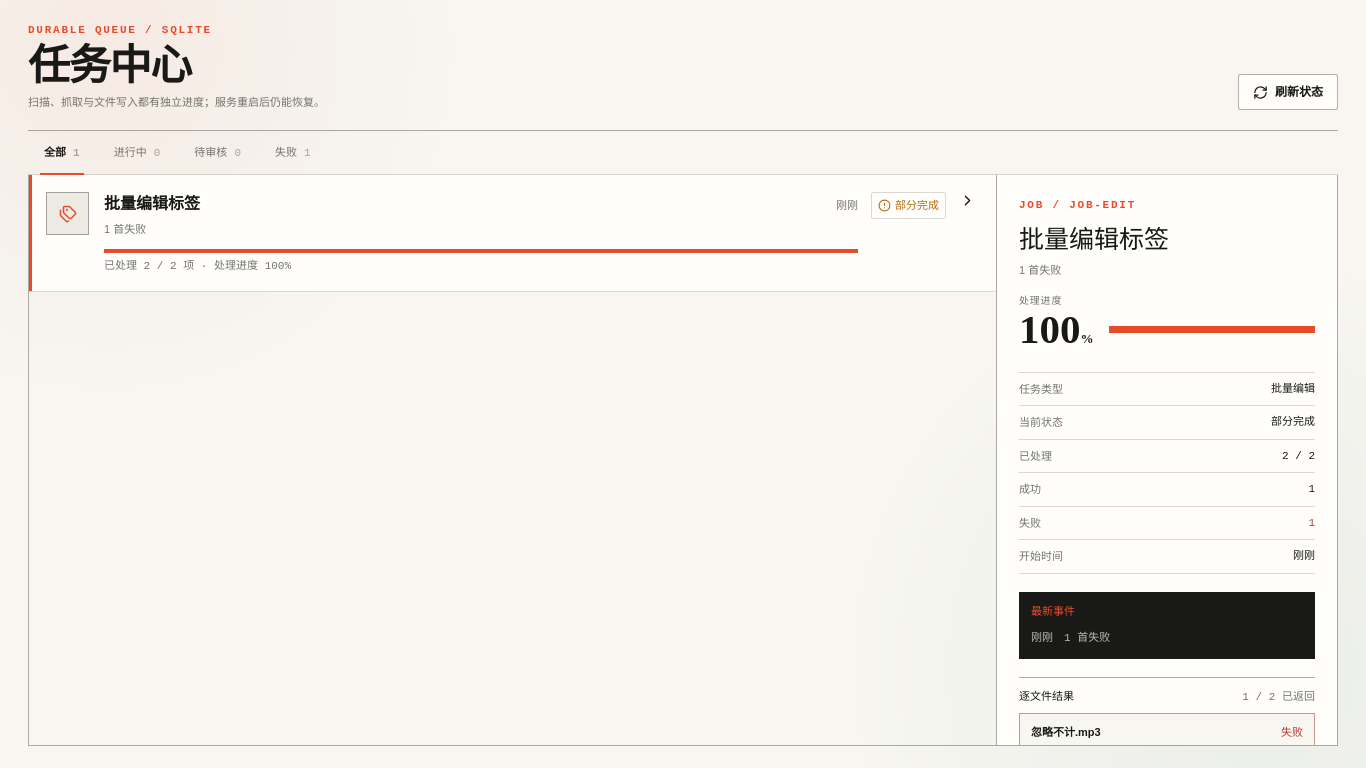
JobsPage › filters the task list when a status tab is selected
The width and height of the screenshot is (1366, 768).
Expected: the heading "批量编辑标签" is shown, [1019,226,1169,252]
Click the button "进行中 0".
click(137, 152)  # box [98,131,176,174]
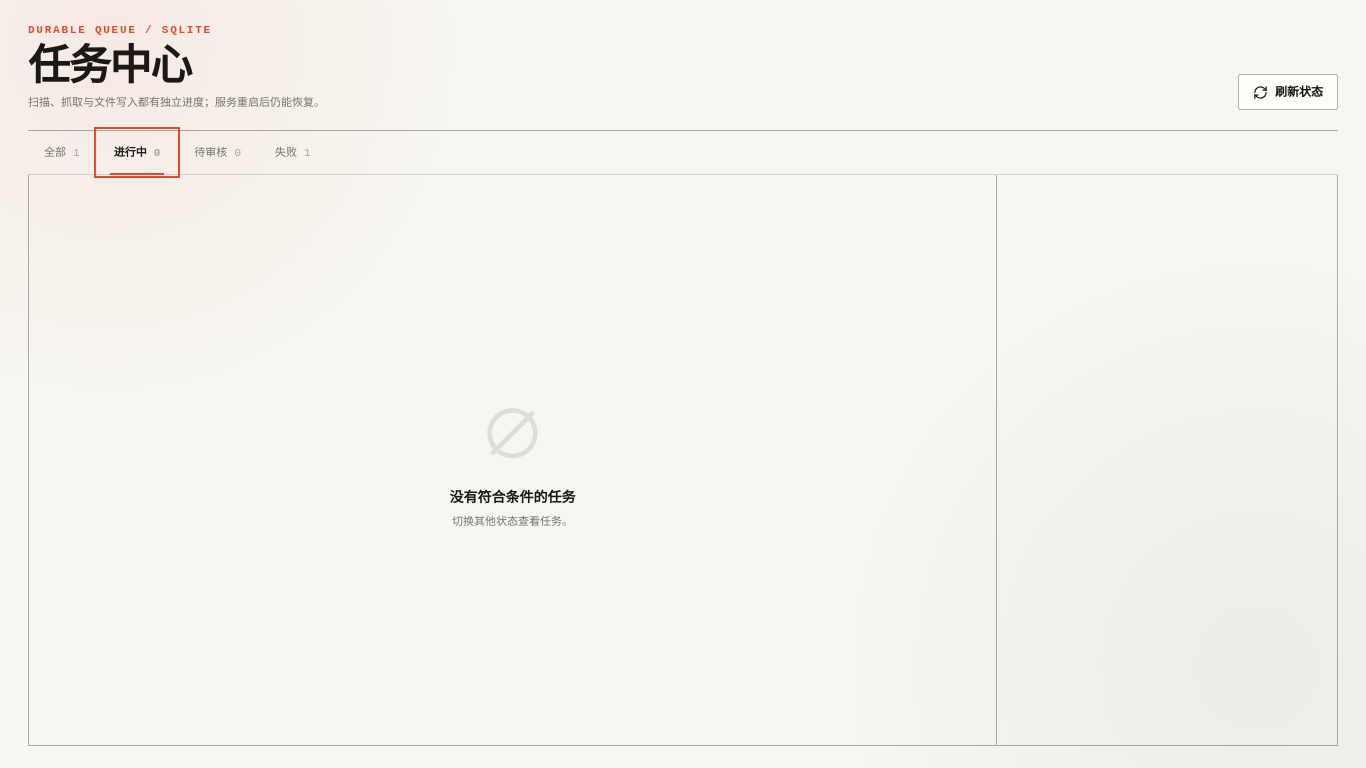
Expected: the button "批量编辑标签" is gone
Click the button "失败 1".
click(293, 152)  # box [259,131,327,174]
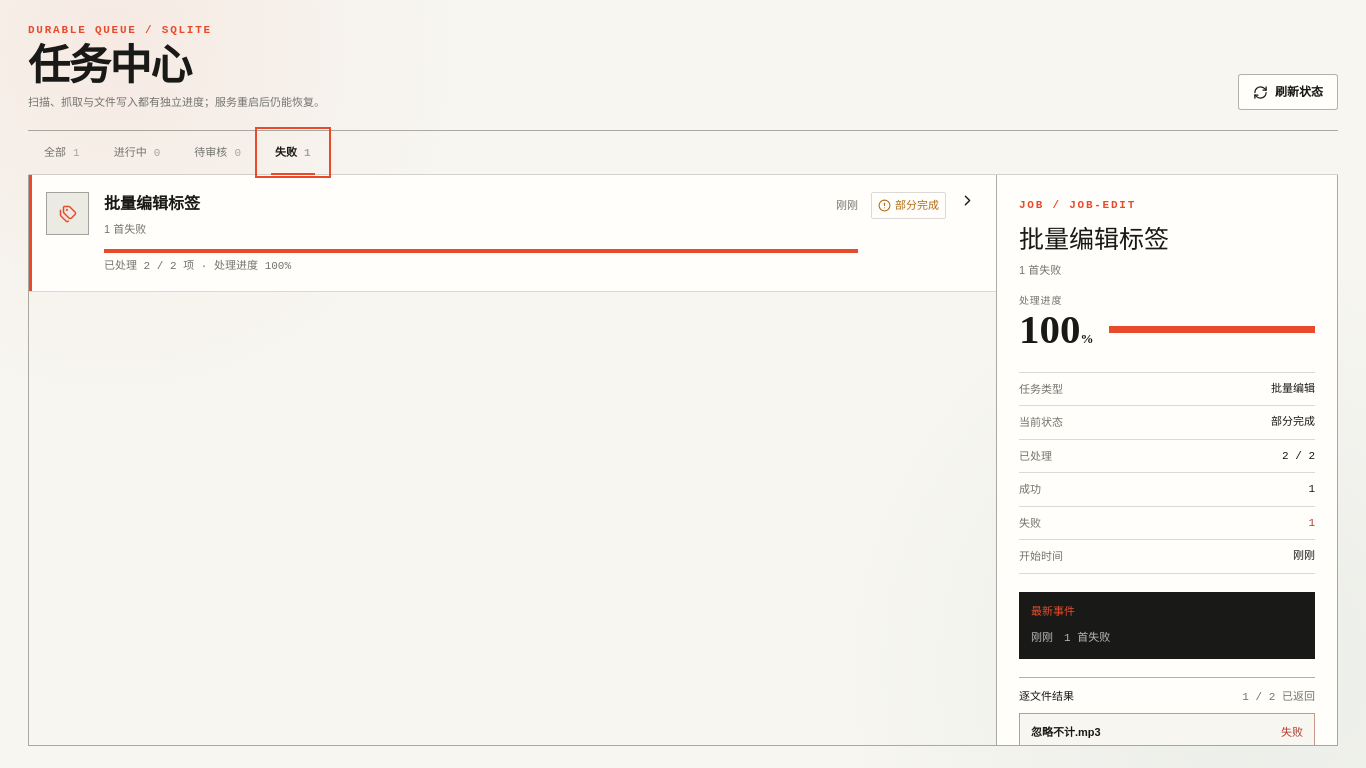
Expected: the heading "批量编辑标签" is shown, [1019,226,1169,252]
